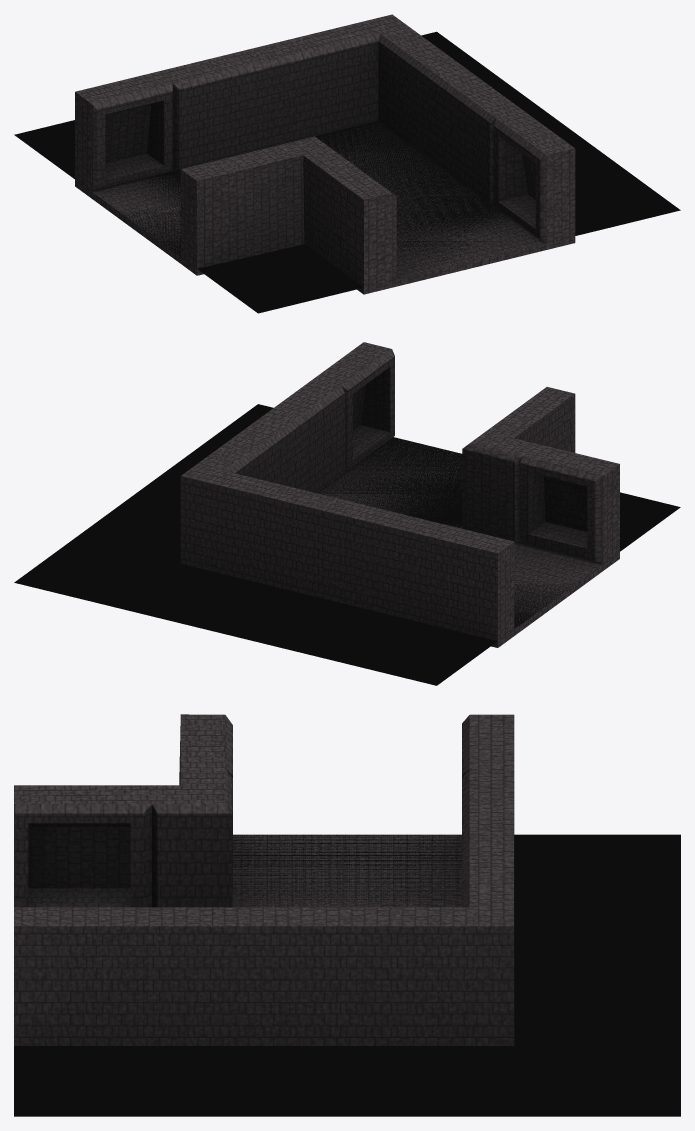
File: Irb_CryptCorner.obj
The picture shows the model from 3 angles, top to bottom: view 1: azimuth 30°, elevation 25°; view 2: azimuth 150°, elevation 25°; view 3: azimuth 270°, elevation 25°; orthographic projection. The views are drawn at different scales.
Parts seen in each view (by area): view 1: Crypt, Reference; view 2: Crypt, Reference; view 3: Crypt, Reference.
Boxes of the visible parts, x1,y1,x2,y2 form: Crypt: (75, 14, 575, 294); Reference: (14, 31, 680, 313); Crypt: (180, 342, 619, 647); Reference: (14, 404, 680, 685); Crypt: (14, 714, 514, 1045); Reference: (14, 834, 680, 1116).
Size of the model in its own units: 1024 by 219 by 1024.
2 materials, 1 textured.
